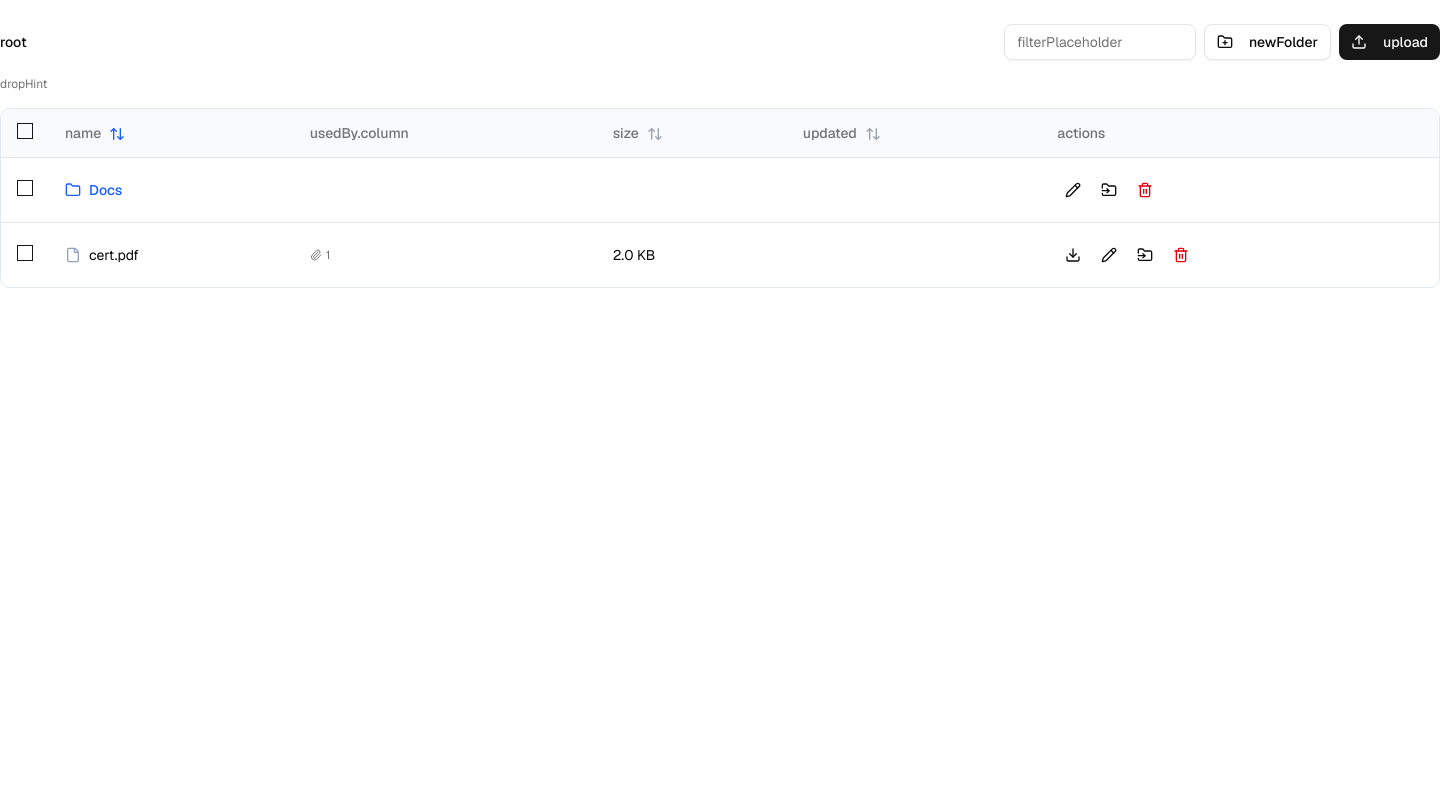
it: MediaBrowser › shows where a file is attached and warns before deleting it
Expected: the element named "file" is shown, [310, 246, 330, 262]
Click the button named "delete" in the row of "cert.pdf" at (1181, 254), box [1165, 238, 1197, 270]
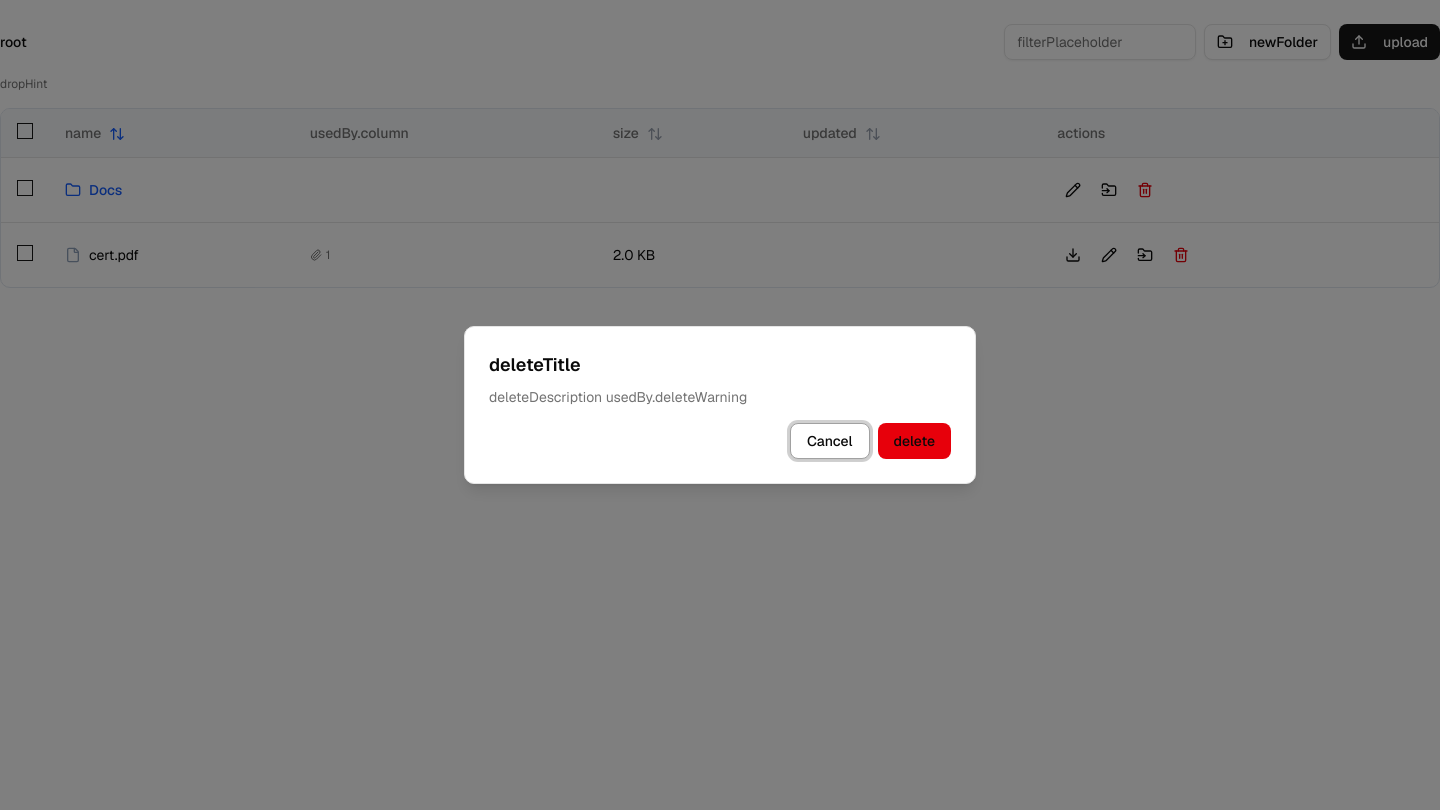
Expected: the text "deleteDescription usedBy.deleteWarning" is shown, [489, 388, 747, 406]
